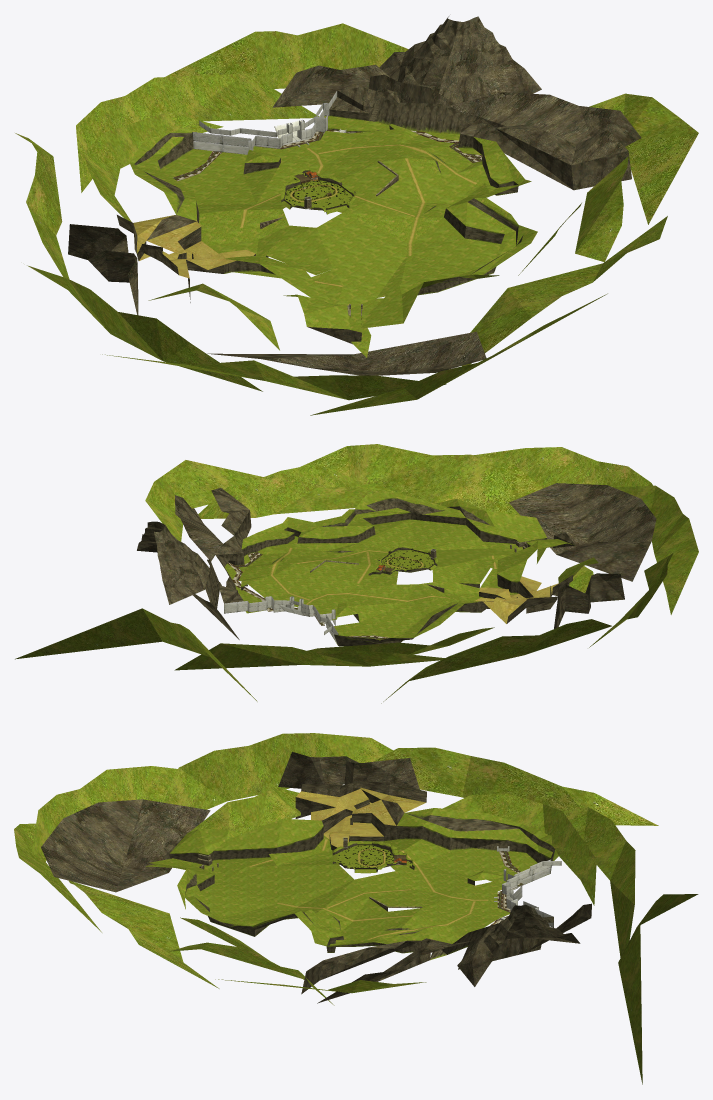
3 renders of one model, top to bottom at view 1: azimuth 30°, elevation 25°; view 2: azimuth 150°, elevation 25°; view 3: azimuth 270°, elevation 25°, orthographic. The views are drawn at different scales.
Parts seen in each view (by area): view 1: course-SKP--auto20, course-SKP--auto5, course-SKP--auto14, course-SKP--auto8, course-SKP--auto1; view 2: course-SKP--auto20, course-SKP--auto5, course-SKP--auto14, course-SKP--auto8, course-SKP--auto1; view 3: course-SKP--auto20, course-SKP--auto5, course-SKP--auto14, course-SKP--auto8.
Part boxes in pixels (x1,y1,x2,y2): course-SKP--auto20: (15,23,698,415); course-SKP--auto5: (68,16,641,375); course-SKP--auto14: (133,144,477,287); course-SKP--auto8: (192,90,398,316); course-SKP--auto1: (172,130,482,181); course-SKP--auto20: (15,444,698,703); course-SKP--auto5: (137,483,656,646); course-SKP--auto14: (269,547,558,623); course-SKP--auto8: (224,541,529,644); course-SKP--auto1: (227,552,403,640); course-SKP--auto20: (14,733,698,1084); course-SKP--auto5: (41,751,591,1003); course-SKP--auto14: (248,787,488,939); course-SKP--auto8: (197,837,561,927).
Bounding box in the file's own units: 505413 × 113766 × 545927.
Materials: 20 (20 with a texture image).
